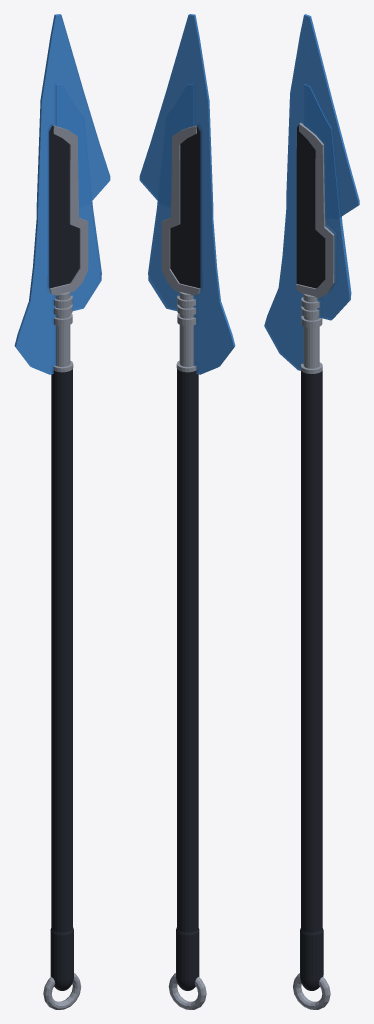
Rendered from weapon_lance.fbx.
3 renders of one model, left to right at view 1: azimuth 30°, elevation 25°; view 2: azimuth 150°, elevation 25°; view 3: azimuth 330°, elevation 25°, orthographic.
Parts seen in each view (by area): view 1: pSphere3; view 2: pSphere3; view 3: pSphere3.
Boxes of the visible parts, left/top/right/bottom form: pSphere3: left=14, top=14, right=110, bottom=1009; pSphere3: left=139, top=14, right=235, bottom=1009; pSphere3: left=264, top=14, right=359, bottom=1009.
Bounding box in the file's own units: 0.6983 × 7.03 × 0.152.
